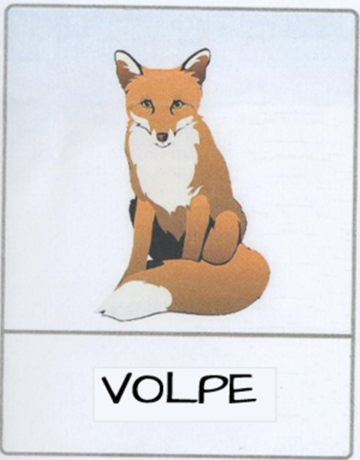volpe: (9, 25, 337, 427)
